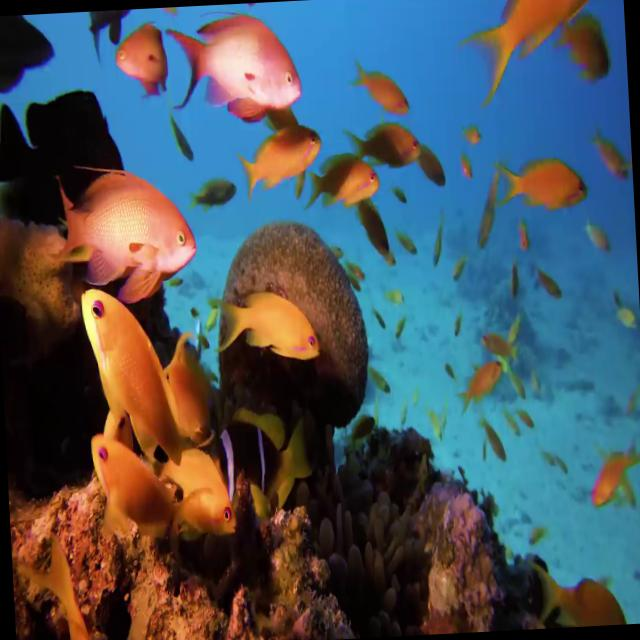fish: (80, 280, 184, 480), (54, 165, 203, 302), (168, 8, 304, 124), (88, 427, 176, 561), (156, 427, 236, 548), (220, 284, 321, 364), (241, 120, 326, 200), (501, 159, 592, 214), (306, 149, 379, 209), (346, 56, 408, 118)
